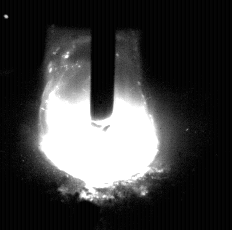arame: (91, 0, 115, 132)
poca: (41, 0, 160, 230)
